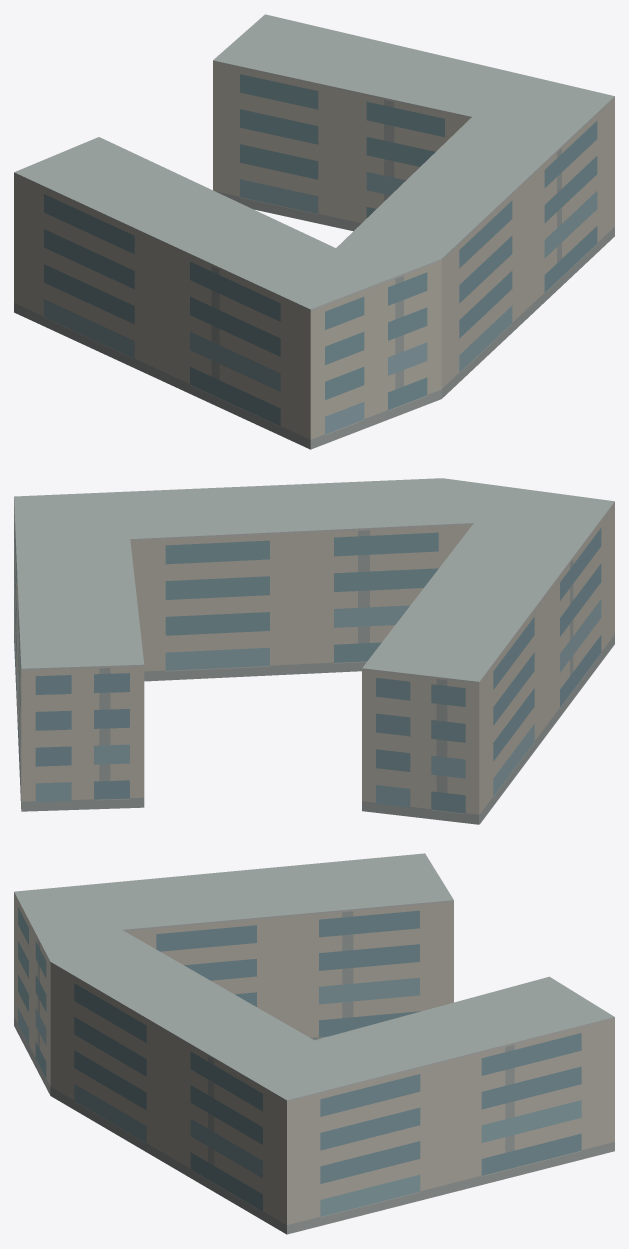
Rendered from residential-20e59ffc-fab3-4e2f-837c-efc81767015b.glb.
3 views of the same model, one above another, from view 1: azimuth 30°, elevation 25°; view 2: azimuth 150°, elevation 25°; view 3: azimuth 270°, elevation 25° (orthographic). The views are drawn at different scales.
Visible parts, largest first — view 1: residential-20e59ffc-fab3-4e2f-837c-efc81767015b.tmp; view 2: residential-20e59ffc-fab3-4e2f-837c-efc81767015b.tmp; view 3: residential-20e59ffc-fab3-4e2f-837c-efc81767015b.tmp.
Part boxes in pixels (x1,y1,x2,y2): residential-20e59ffc-fab3-4e2f-837c-efc81767015b.tmp: [14, 14, 614, 449]; residential-20e59ffc-fab3-4e2f-837c-efc81767015b.tmp: [14, 478, 614, 824]; residential-20e59ffc-fab3-4e2f-837c-efc81767015b.tmp: [14, 853, 614, 1234].
Bounding box in the file's own units: 63.16 × 16 × 64.93.
